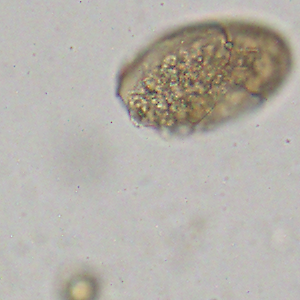Fasciola_hepatica_egg: (115, 16, 293, 137)
